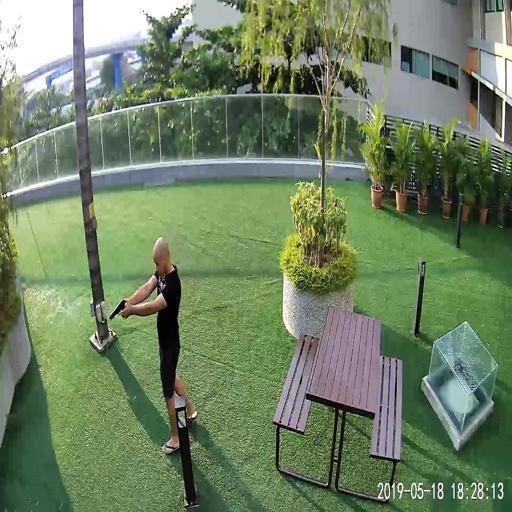Handgun: (108, 296, 128, 319)
